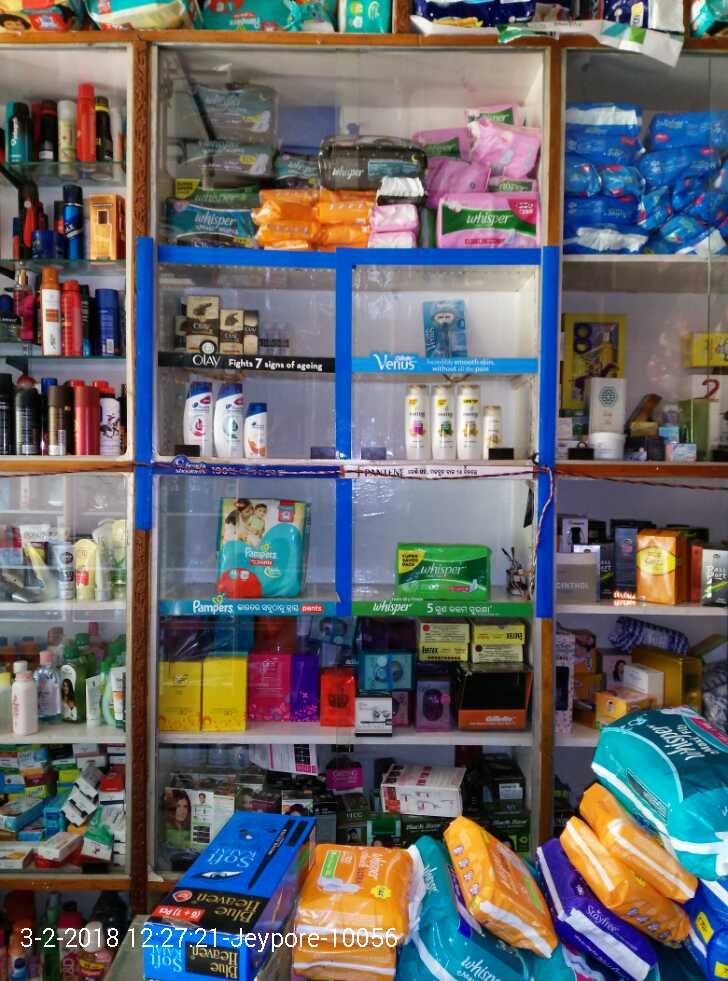venus: (424, 298, 468, 358)
